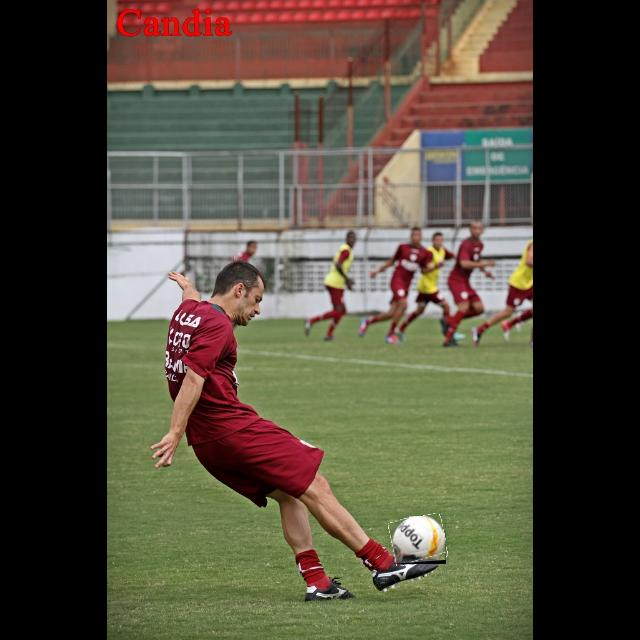Football: (390, 516, 446, 564)
